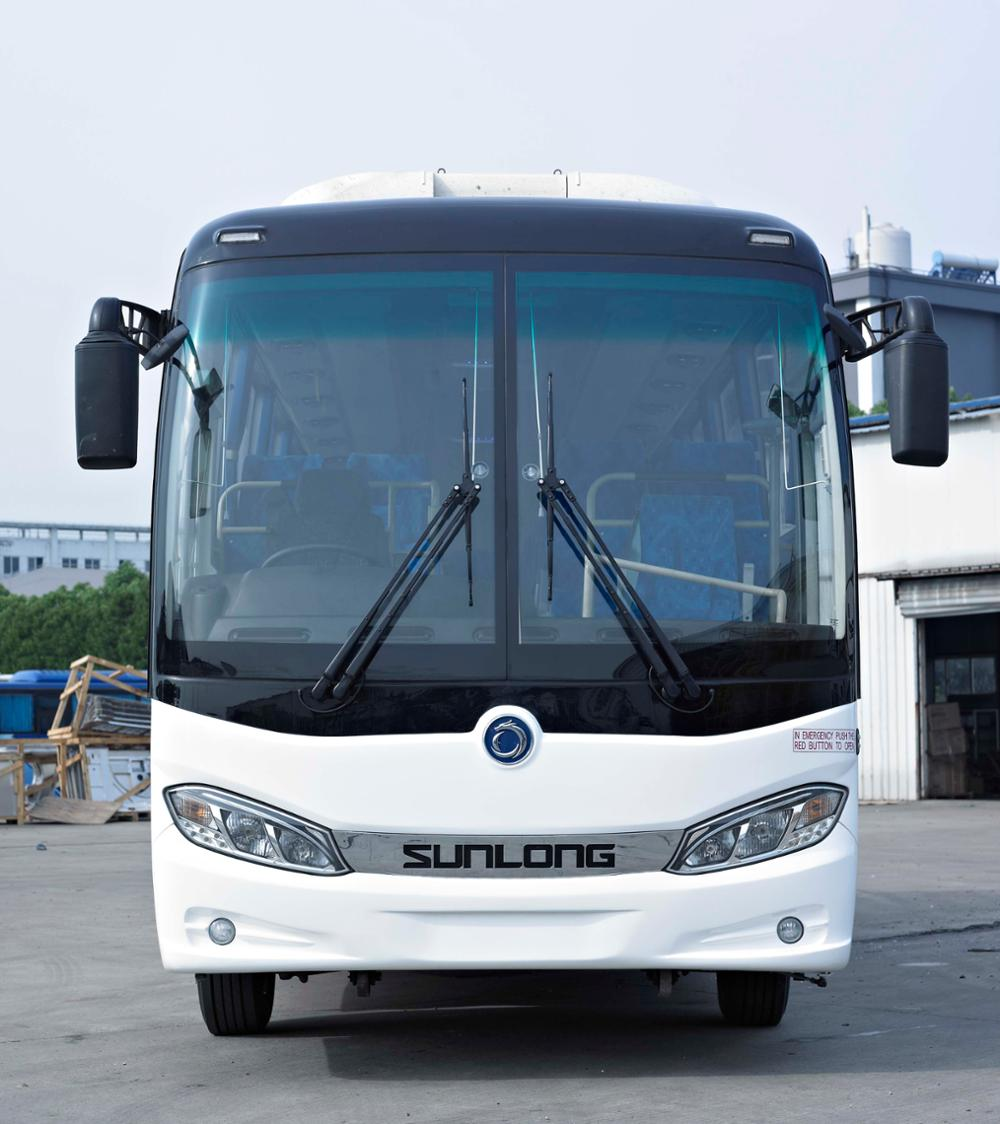bus: (138, 162, 864, 1039)
